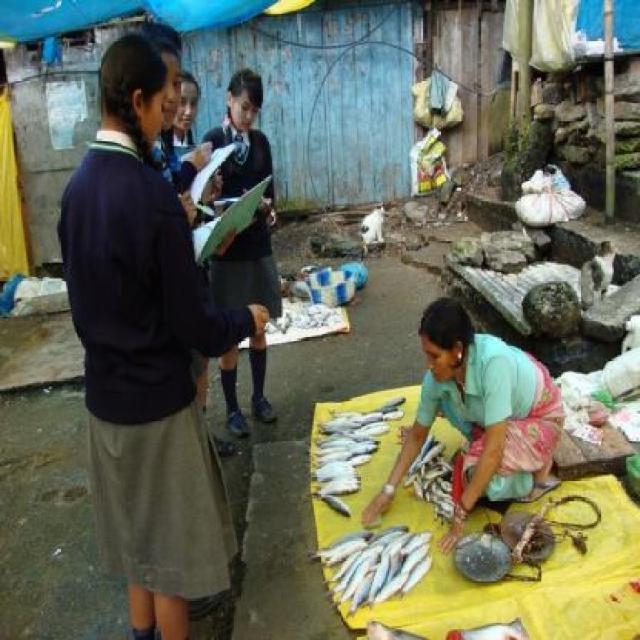garbage: (519, 163, 593, 222)
